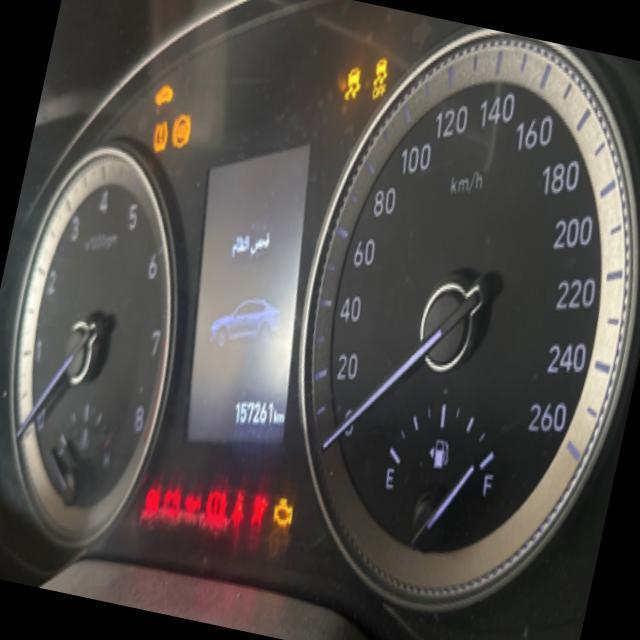security: (150, 77, 179, 111)
